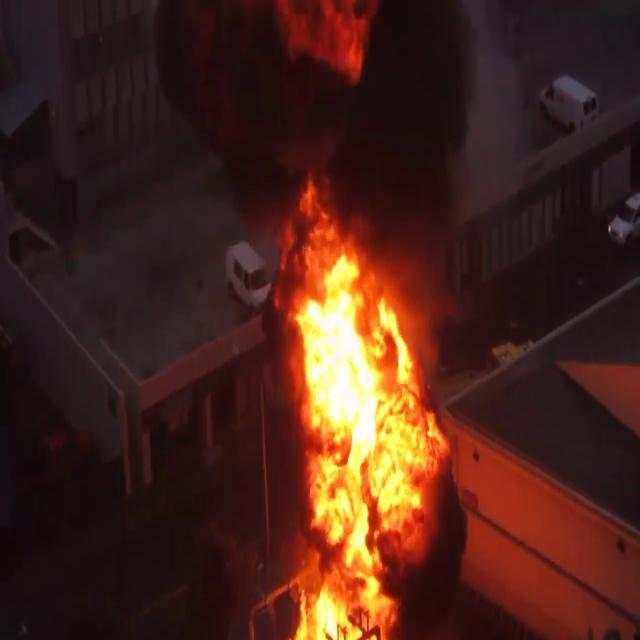Fire: (274, 225, 450, 635)
